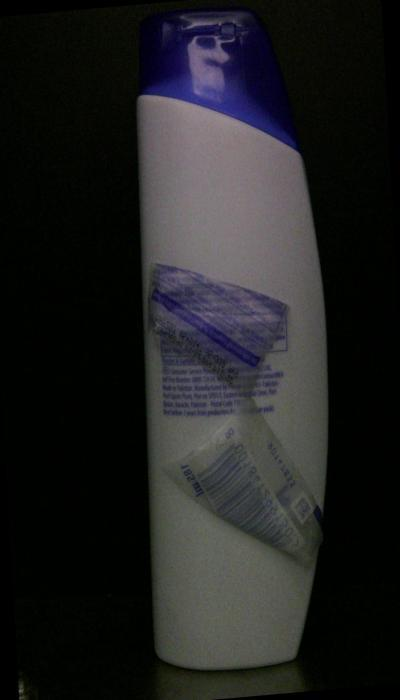adhesion_unacc: (162, 394, 320, 574), (143, 248, 294, 409)
